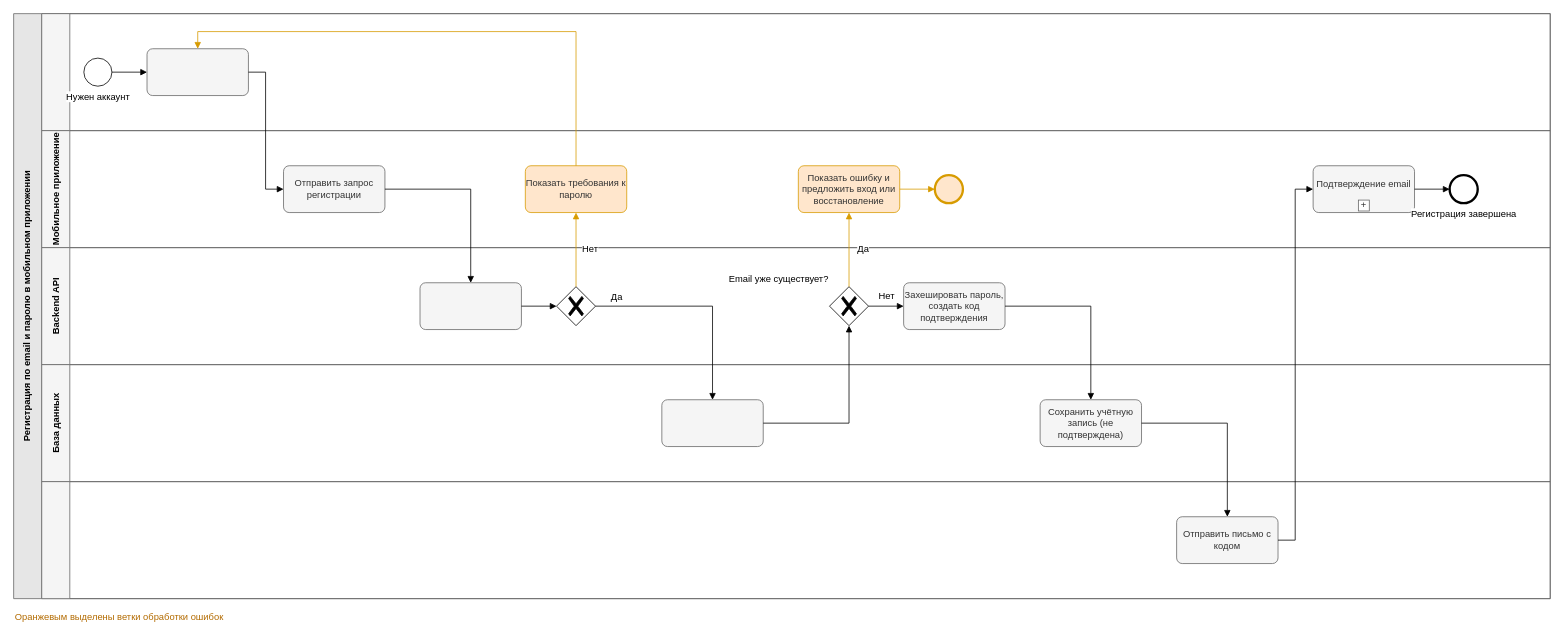
Image size: 1564x640. Some labels were removed from this diagram. Each missing label, with the box of its shape:
Email-сервис: (41, 481, 1550, 599)
Ввести email и пароль, принять соглашение: (146, 48, 248, 96)
Найти учётную запись по email: (661, 399, 763, 447)
Пароль надёжный?: (556, 286, 596, 326)
Пользователь: (41, 13, 1550, 131)
Проверить формат email и политику пароля: (419, 282, 521, 330)
Регистрация отклонена: (934, 174, 963, 203)
